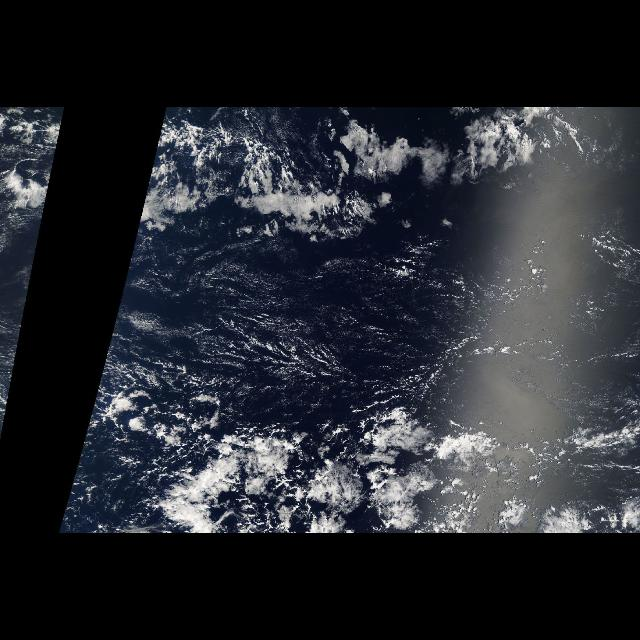Flower: (172, 412, 540, 528)
Gravel: (185, 307, 480, 428)
Sugar: (137, 248, 577, 392)
